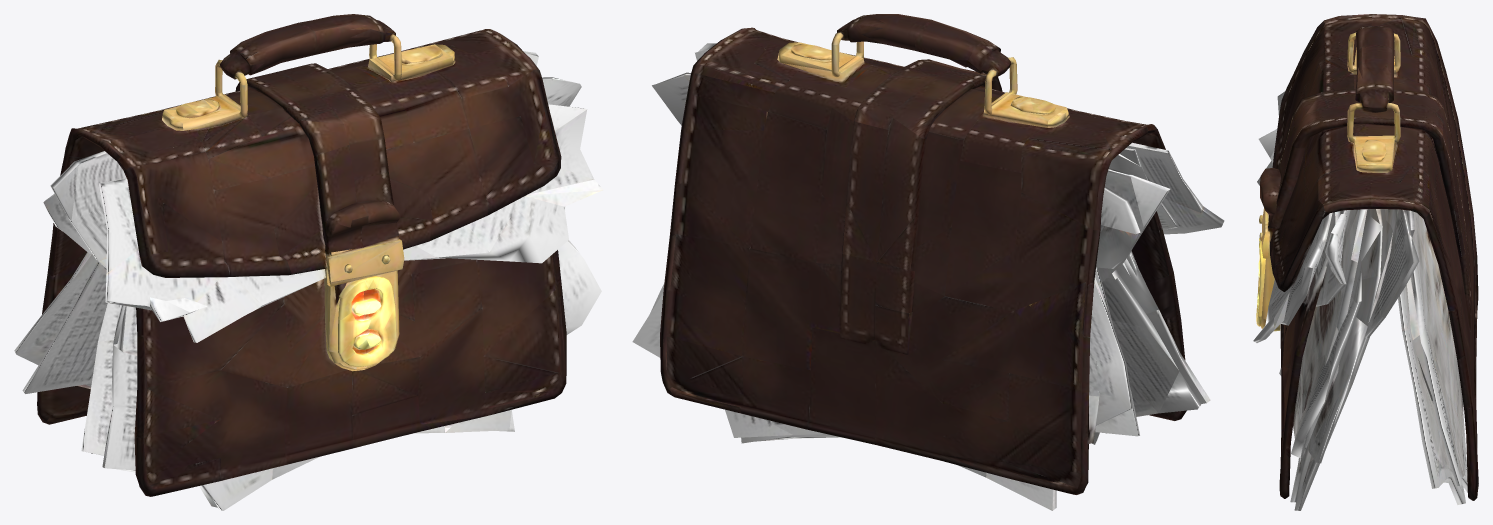
Rendered from shyster.glb.
3 views of the same model, side by side, from view 1: azimuth 30°, elevation 25°; view 2: azimuth 150°, elevation 25°; view 3: azimuth 270°, elevation 25° (orthographic). The views are drawn at different scales.
Size of the model in its own units: 1 by 0.8047 by 0.415.
Materials: 1 (1 with a texture image).
